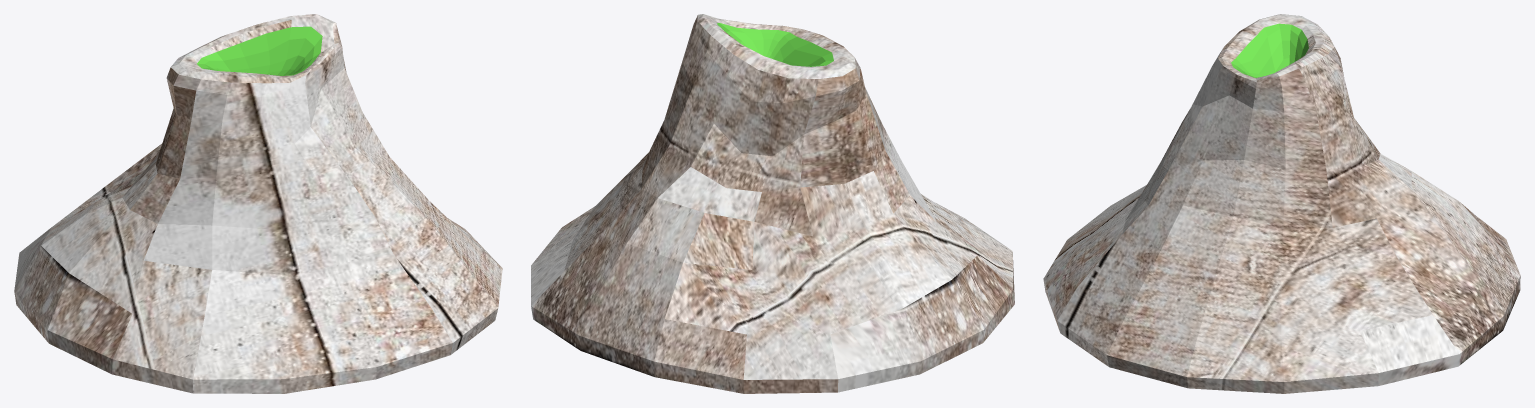
The model's file is Anthill.fbx.
3 renders of one model, left to right at view 1: azimuth 30°, elevation 25°; view 2: azimuth 150°, elevation 25°; view 3: azimuth 270°, elevation 25°, orthographic.
Visible parts, largest first — view 1: Cube; view 2: Cube; view 3: Cube.
Boxes of the visible parts, x1,y1,x2,y2 form: Cube: (14,14,502,393); Cube: (531,14,1014,393); Cube: (1043,14,1520,393).
Bounding box in the file's own units: 346 × 211 × 341.
